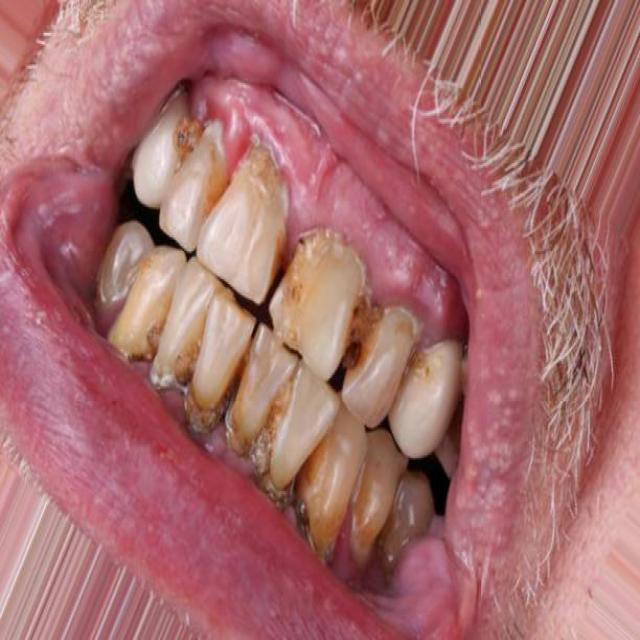caries: (341, 263, 395, 384), (164, 104, 211, 169)
